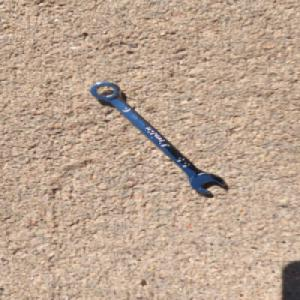Wrench: (88, 80, 229, 195)
